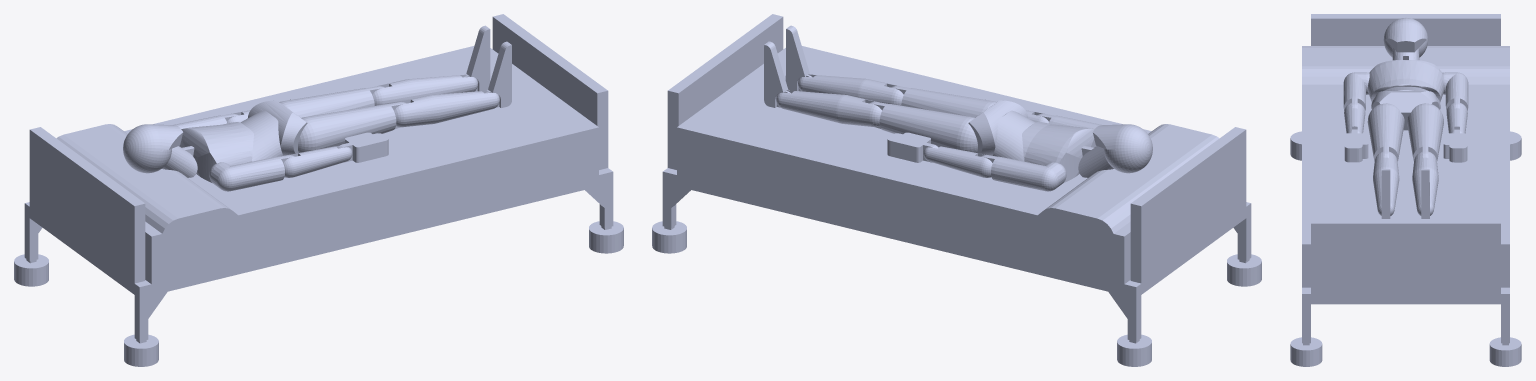
The model's file is bed_and_body_v2.rounded.dae.
The picture shows the model from 3 angles, left to right: view 1: azimuth 30°, elevation 25°; view 2: azimuth 150°, elevation 25°; view 3: azimuth 270°, elevation 25°; orthographic projection. The views are drawn at different scales.
Parts seen in each view (by area): view 1: bed_frame_link, leg_rest_lower_link, head_rest_link, leg_rest_upper_link, quad_right_link, base_link, upper_body_link, calf_right_link, head_link, calf_left_link, arm_right_link, quad_left_link (+7 smaller); view 2: bed_frame_link, leg_rest_lower_link, head_rest_link, leg_rest_upper_link, quad_left_link, base_link, upper_body_link, calf_left_link, head_link, calf_right_link, arm_left_link, quad_right_link (+7 smaller); view 3: bed_frame_link, head_rest_link, leg_rest_lower_link, leg_rest_upper_link, base_link, upper_body_link, quad_left_link, quad_right_link, head_link, lower_body_link, calf_left_link, calf_right_link (+10 smaller).
Boxes of the visible parts, box(x1,y1,x2,y2) form: bed_frame_link: box(24, 14, 613, 341); leg_rest_lower_link: box(335, 46, 598, 211); head_rest_link: box(56, 114, 307, 284); leg_rest_upper_link: box(254, 80, 449, 230); quad_right_link: box(298, 102, 406, 152); base_link: box(14, 221, 623, 366); upper_body_link: box(179, 122, 253, 182); calf_right_link: box(394, 90, 499, 127); head_link: box(123, 124, 183, 173); calf_left_link: box(372, 74, 477, 105); arm_right_link: box(209, 155, 294, 191); quad_left_link: box(279, 86, 384, 117); bed_frame_link: box(662, 14, 1251, 341); leg_rest_lower_link: box(677, 46, 940, 211); head_rest_link: box(968, 114, 1219, 284); leg_rest_upper_link: box(826, 80, 1021, 230); quad_left_link: box(869, 101, 977, 152); base_link: box(652, 221, 1261, 366); upper_body_link: box(1022, 122, 1096, 182); calf_left_link: box(776, 90, 881, 127); head_link: box(1092, 124, 1152, 173); calf_right_link: box(798, 74, 903, 105); arm_left_link: box(981, 155, 1066, 191); quad_right_link: box(891, 86, 996, 117); bed_frame_link: box(1302, 14, 1509, 343); head_rest_link: box(1302, 46, 1509, 115); leg_rest_lower_link: box(1302, 178, 1509, 287); leg_rest_upper_link: box(1302, 142, 1509, 177); base_link: box(1290, 131, 1521, 366); upper_body_link: box(1367, 60, 1444, 102); quad_left_link: box(1407, 103, 1443, 160); quad_right_link: box(1367, 103, 1404, 160); head_link: box(1383, 18, 1428, 57); lower_body_link: box(1373, 91, 1438, 130); calf_left_link: box(1412, 151, 1438, 215); calf_right_link: box(1373, 151, 1399, 215).
Bounding box in the file's own units: 2.28 × 1.01 × 0.8075.
